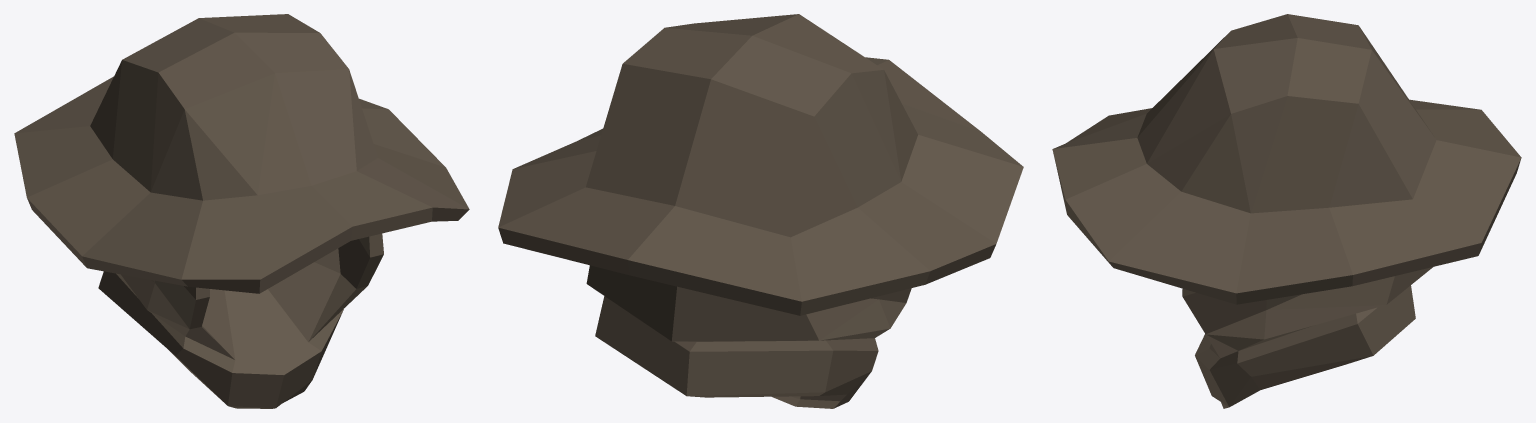
The model's file is Chr_HeadCoverings_No_Hair_03_Static.fbx.
3 renders of one model, left to right at view 1: azimuth 30°, elevation 25°; view 2: azimuth 150°, elevation 25°; view 3: azimuth 270°, elevation 25°, orthographic. The views are drawn at different scales.
Parts seen in each view (by area): view 1: Chr_HeadCoverings_No_Hair_03_Static; view 2: Chr_HeadCoverings_No_Hair_03_Static; view 3: Chr_HeadCoverings_No_Hair_03_Static.
Part boxes in pixels (box(x1,y1,x2,y2)): Chr_HeadCoverings_No_Hair_03_Static: box(14, 14, 469, 408); Chr_HeadCoverings_No_Hair_03_Static: box(498, 14, 1023, 408); Chr_HeadCoverings_No_Hair_03_Static: box(1052, 14, 1521, 408).
Bounding box in the file's own units: 0.491 × 0.4498 × 0.5285.
